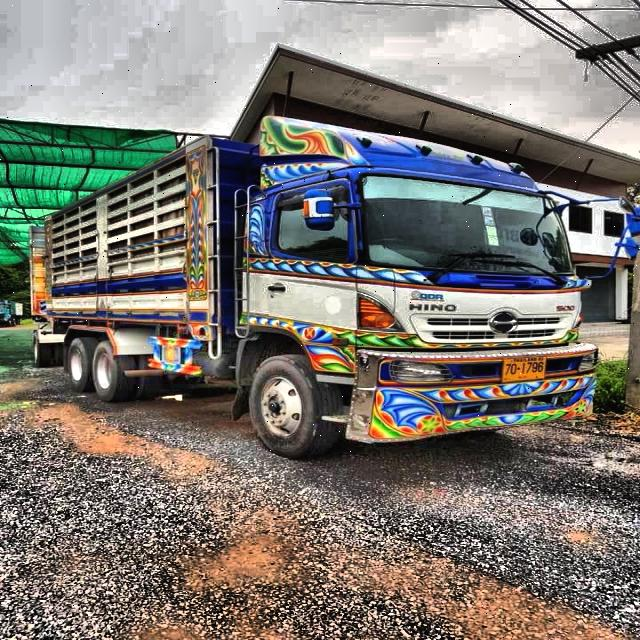trailer: (9, 106, 640, 462)
